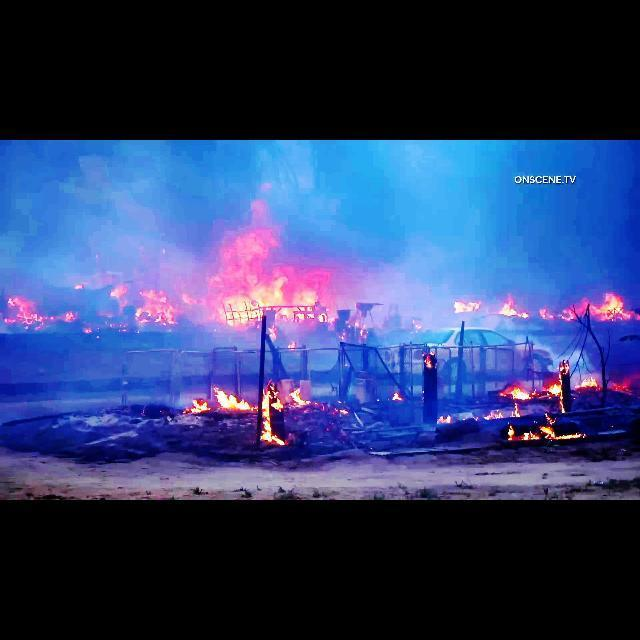Fire: (236, 238, 320, 324), (592, 294, 624, 324)
